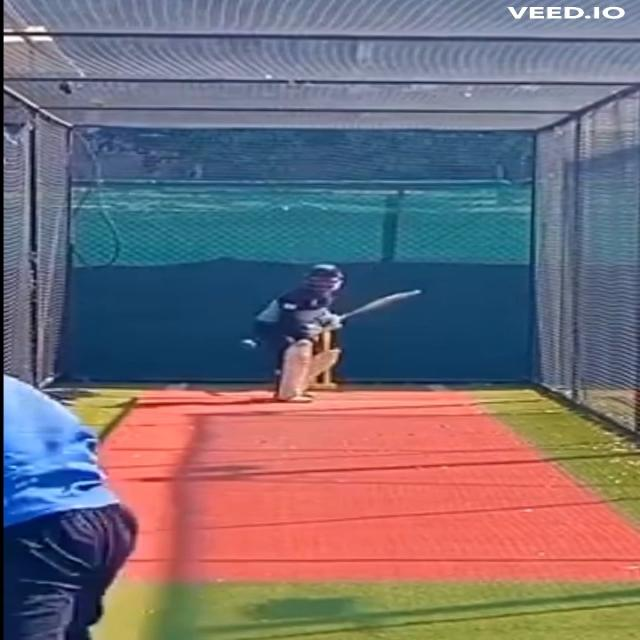ball: (236, 336, 258, 352)
